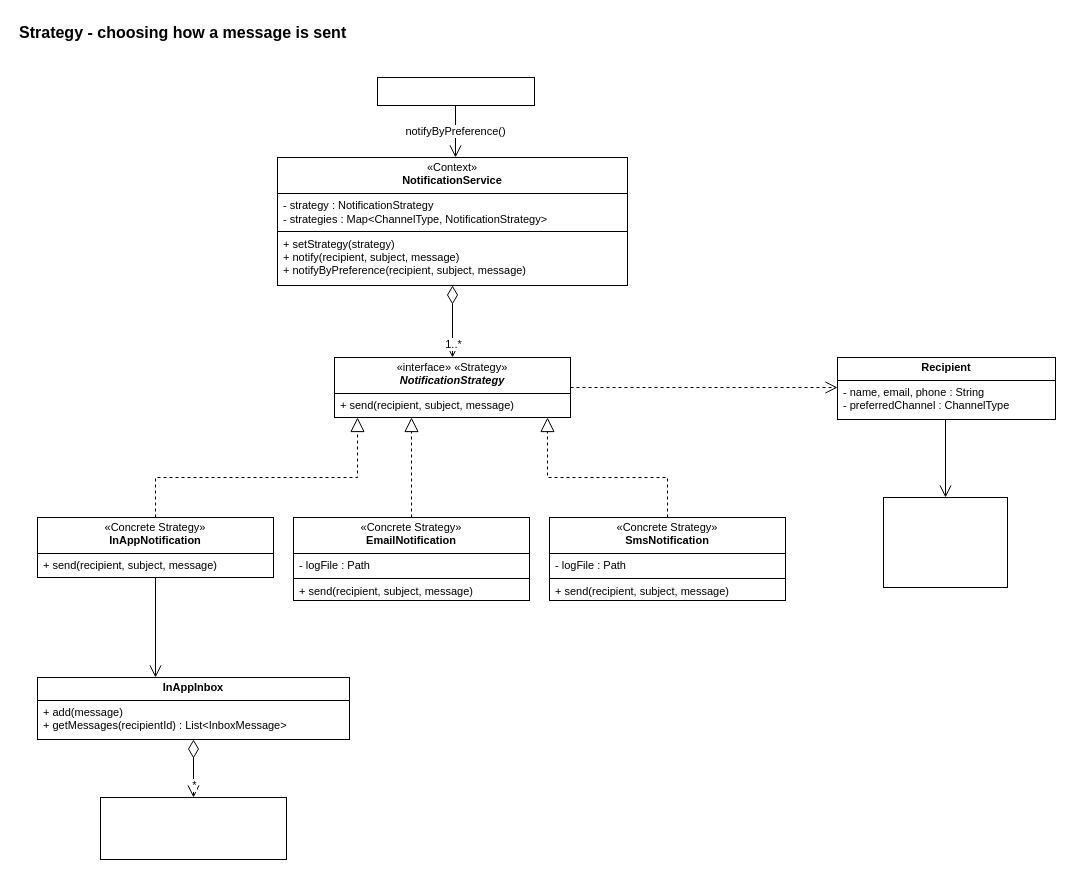
The diagram is 1073 pixels wide and 877 high, and some of its shapes have lost their labels. The shapes that lost their labels are listed below. From the top down, each one's centre as x and y in pixels, then its label:
the point at 455,91: Observers (Client)
the point at 945,542: «enumeration» ChannelType IN_APP EMAIL SMS
the point at 193,828: InboxMessage - subject, message : String - sentAt : LocalDateTime
